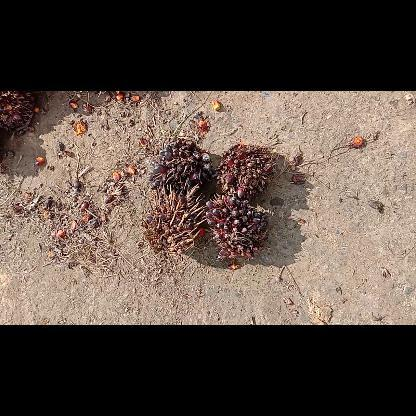TBS abnormal: (142, 183, 206, 253), (206, 193, 268, 260), (149, 139, 213, 197), (215, 143, 275, 200)
